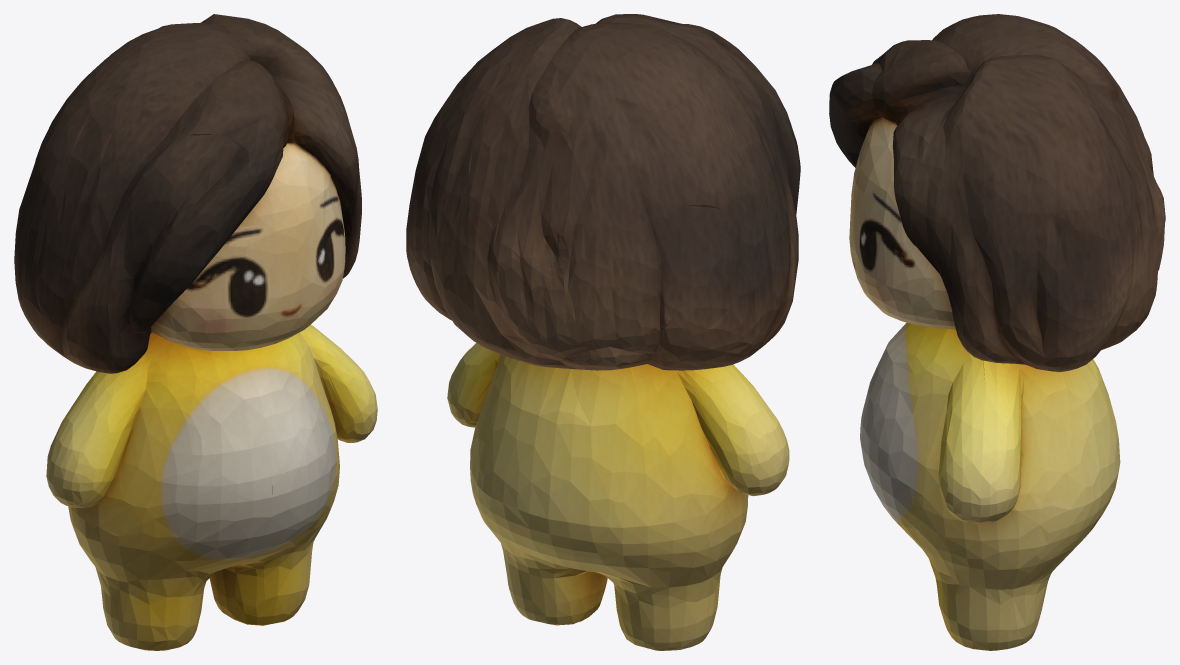
The model's file is soy-milk.glb.
The picture shows the model from 3 angles, left to right: view 1: azimuth 30°, elevation 25°; view 2: azimuth 150°, elevation 25°; view 3: azimuth 270°, elevation 25°; orthographic projection. The views are drawn at different scales.
Parts seen in each view (by area): view 1: geometry_0; view 2: geometry_0; view 3: geometry_0.
Part boxes in pixels (x1,y1,x2,y2): geometry_0: (14, 14, 377, 650); geometry_0: (406, 14, 800, 650); geometry_0: (829, 14, 1165, 650).
Size of the model in its own units: 0.0496 by 0.0849 by 0.0449.
Materials: 1 (1 with a texture image).
